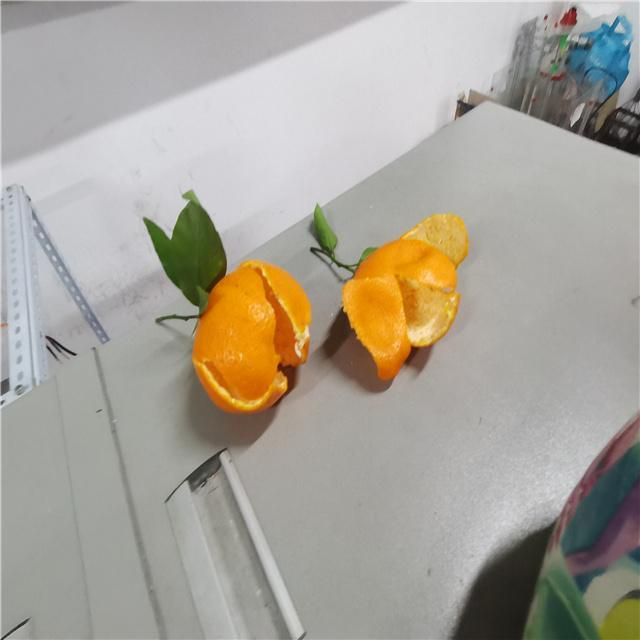orange-peel: (344, 210, 470, 376), (190, 258, 312, 414)
